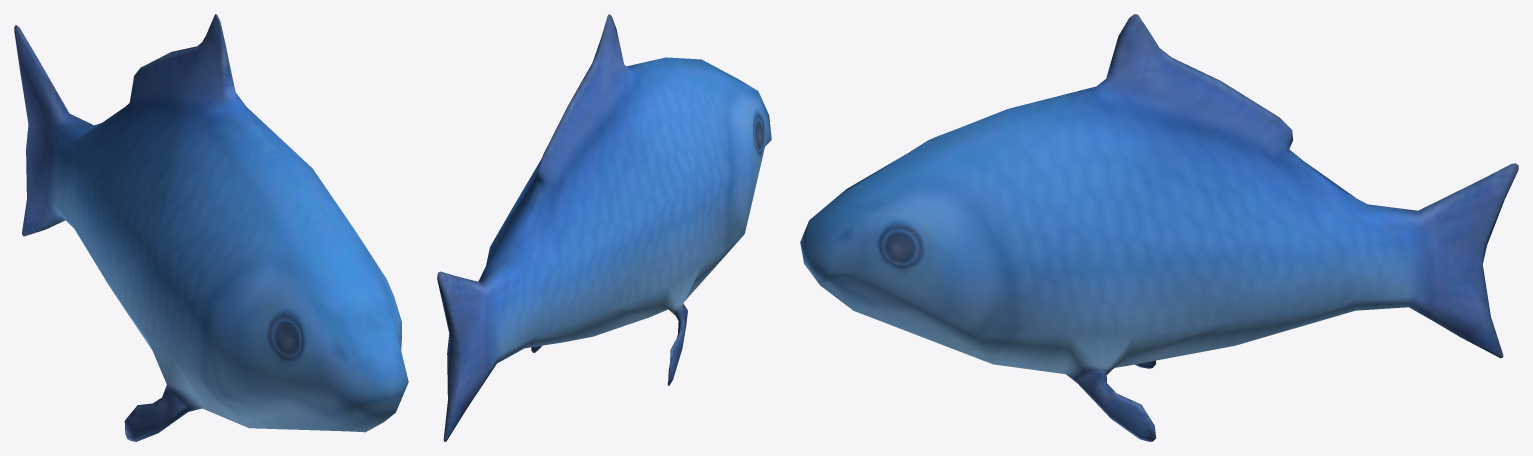
File: Fish1.glb
3 views of the same model, side by side, from view 1: azimuth 30°, elevation 25°; view 2: azimuth 150°, elevation 25°; view 3: azimuth 270°, elevation 25° (orthographic). The views are drawn at different scales.
Visible parts, largest first — view 1: low; view 2: low; view 3: low.
Boxes of the visible parts, bbox=[...] form: low: bbox=[14, 14, 408, 441]; low: bbox=[437, 14, 771, 441]; low: bbox=[800, 14, 1518, 441].
Bounding box in the file's own units: 1.22 × 2.94 × 4.89.
1 material, 1 textured.
